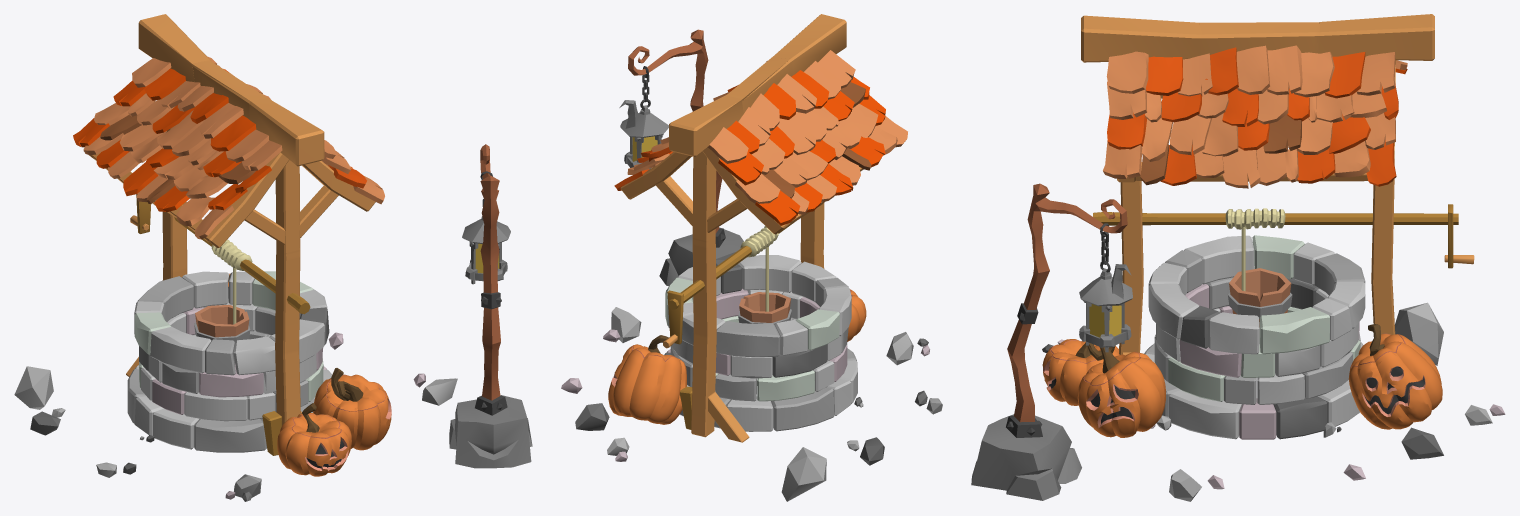
The model's file is well.glb.
3 renders of one model, left to right at view 1: azimuth 30°, elevation 25°; view 2: azimuth 150°, elevation 25°; view 3: azimuth 270°, elevation 25°, orthographic. The views are drawn at different scales.
Visible parts, largest first — view 1: Weel, LanternWeel, Bucket, LanternSupportWeel; view 2: Weel, LanternWeel, LanternSupportWeel, Bucket; view 3: Weel, LanternWeel, LanternSupportWeel, Bucket.
Part boxes in pixels (<box>): Weel: <box>14,14,457,501</box>; LanternWeel: <box>449,144,532,468</box>; Bucket: <box>194,304,250,343</box>; LanternSupportWeel: <box>462,171,510,284</box>; Weel: <box>561,14,942,501</box>; LanternWeel: <box>628,29,748,286</box>; LanternSupportWeel: <box>619,66,668,169</box>; Bucket: <box>738,292,791,325</box>; Weel: <box>1042,14,1505,501</box>; LanternWeel: <box>971,183,1127,500</box>; LanternSupportWeel: <box>1079,223,1132,352</box>; Bucket: <box>1228,268,1292,327</box>.
Size of what is drawn, in the model's own units: 8.31 by 7.74 by 9.23.
